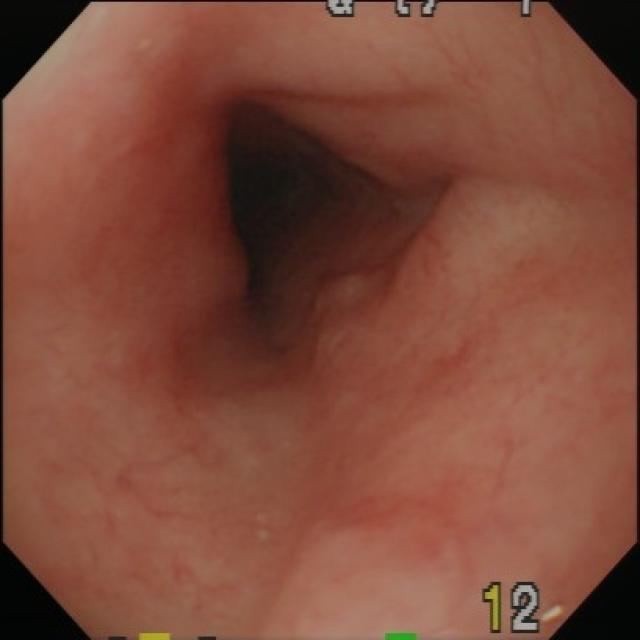A: (317, 176, 524, 388)
E: (217, 107, 391, 316)
S: (324, 3, 543, 20), (483, 581, 544, 636)
